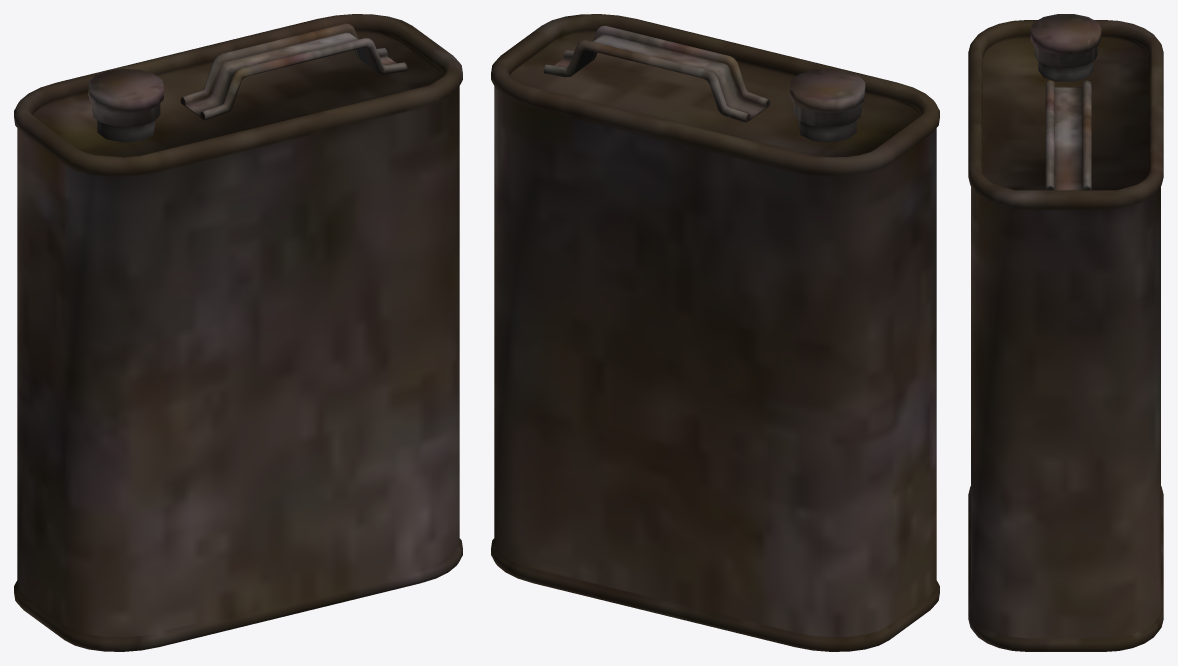
File: jerry-can--3.gltf
The picture shows the model from 3 angles, left to right: view 1: azimuth 30°, elevation 25°; view 2: azimuth 150°, elevation 25°; view 3: azimuth 270°, elevation 25°; orthographic projection. The views are drawn at different scales.
Visible parts, largest first — view 1: oil.can3, handle3, cap3, cap.rim3; view 2: oil.can3, handle3, cap3, cap.rim3; view 3: oil.can3, handle3, cap3, cap.rim3.
Boxes of the visible parts, box(x1,y1,x2,y2) form: oil.can3: box(14, 14, 462, 651); handle3: box(180, 23, 407, 120); cap3: box(88, 68, 163, 127); cap.rim3: box(97, 120, 154, 142); oil.can3: box(491, 14, 939, 651); handle3: box(543, 25, 770, 122); cap3: box(790, 68, 865, 127); cap.rim3: box(799, 120, 856, 142); oil.can3: box(968, 20, 1163, 651); handle3: box(1045, 80, 1091, 190); cap3: box(1030, 14, 1101, 67); cap.rim3: box(1038, 61, 1093, 81).
Bounding box in the file's own units: 0.355 × 0.45 × 0.164.
Materials: 4 (4 with a texture image).
